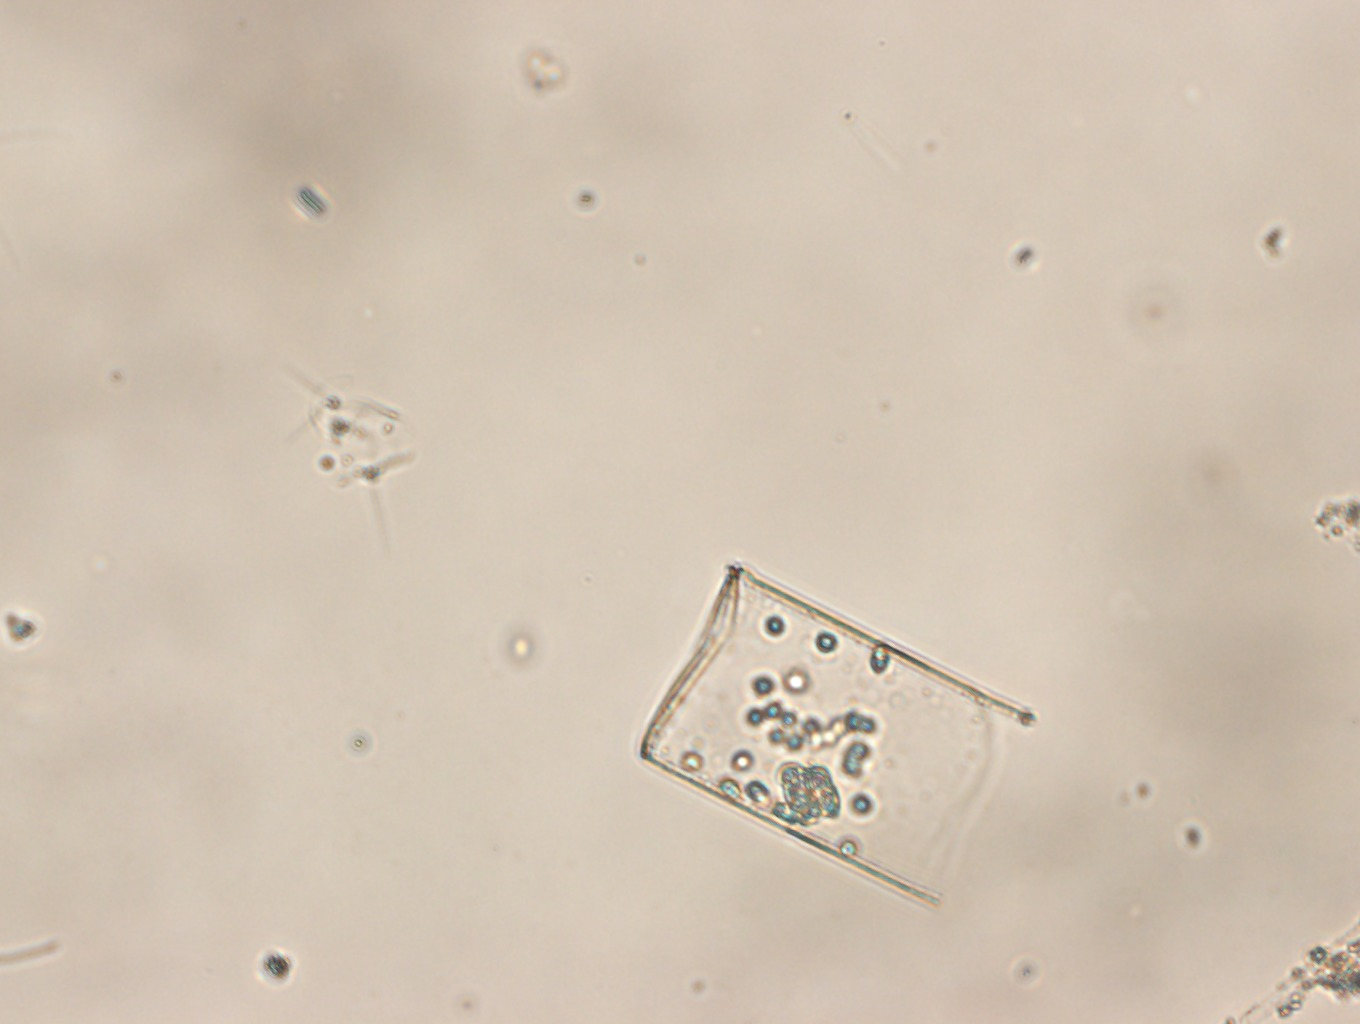guinardia flaccida: (641, 567, 1030, 909)
